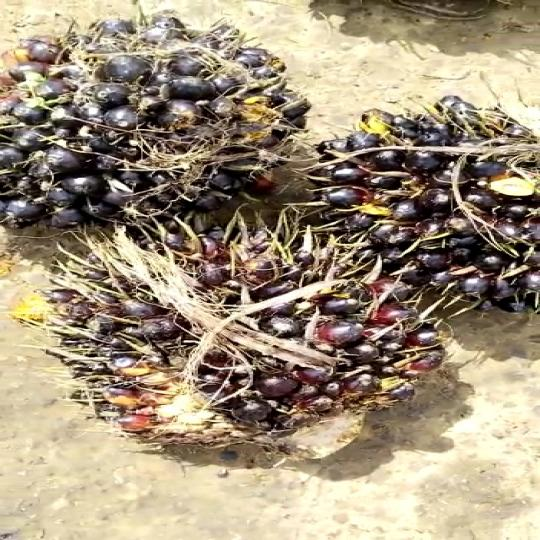mentah: (44, 205, 461, 475), (1, 0, 330, 239), (297, 94, 540, 317)
